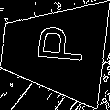P_W: (23, 29, 83, 71)
